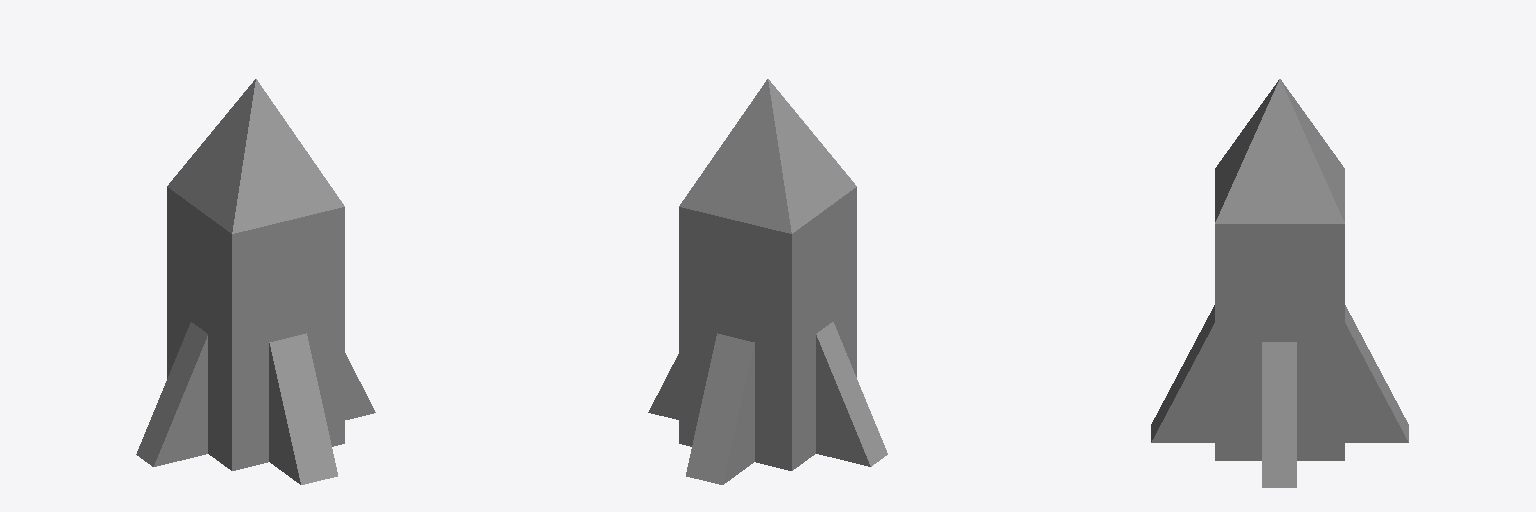
The model's file is rocket.obj.
3 renders of one model, left to right at view 1: azimuth 30°, elevation 25°; view 2: azimuth 150°, elevation 25°; view 3: azimuth 270°, elevation 25°, orthographic.
Visible parts, largest first — view 1: Cube; view 2: Cube; view 3: Cube.
Boxes of the visible parts, x1=… form: Cube: x1=136, y1=79, x2=375, y2=484; Cube: x1=648, y1=79, x2=887, y2=484; Cube: x1=1151, y1=79, x2=1408, y2=487.
Bounding box in the file's own units: 31.25 × 47.64 × 31.25.